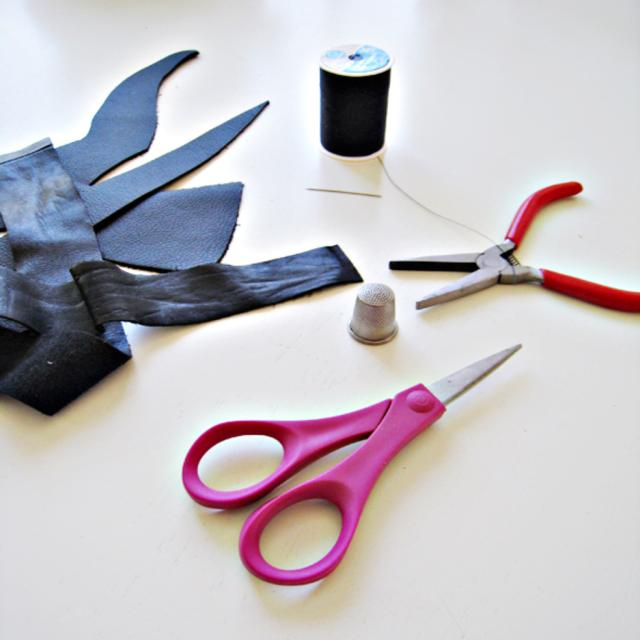scissors: (181, 342, 523, 586)
